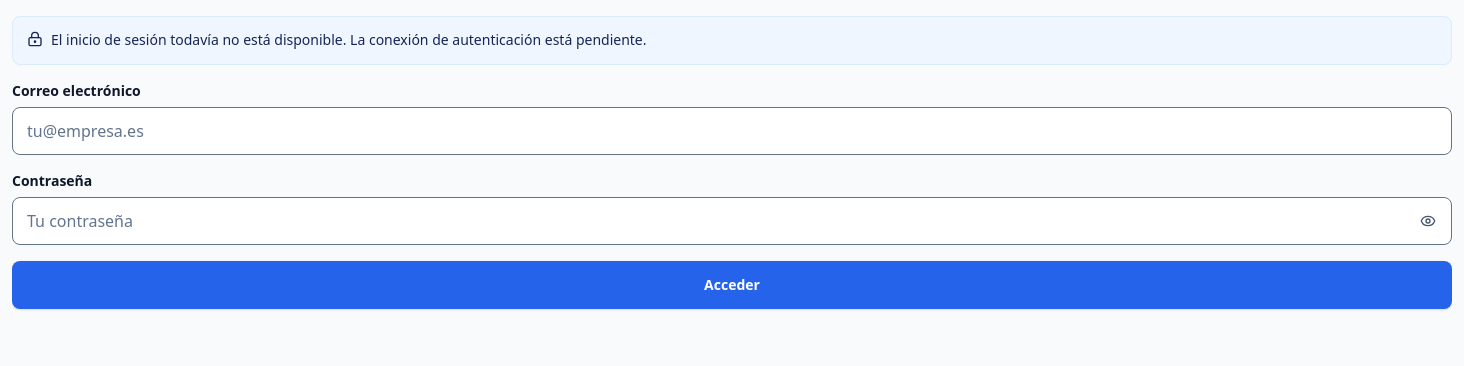
Test case: Formulario de acceso › mantiene acceso indisponible tras enviar campos válidos sin integración
Expected: the text "El inicio de sesión todavía no está disponible. La conexión de autenticación está pendiente." is shown, left=51, top=30, right=646, bottom=49
Type "prueba@example.invalid" into the field labelled "Correo electrónico" at (732,131), box left=12, top=107, right=1452, bottom=155
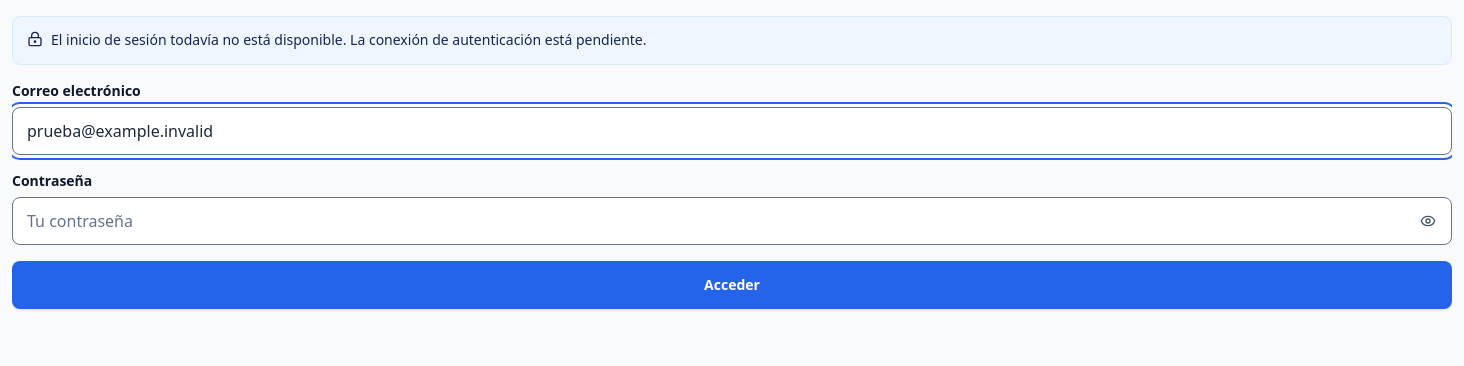
Type "entrada-de-prueba" into the password field labelled "Contraseña" at (732,221), box left=12, top=197, right=1452, bottom=245
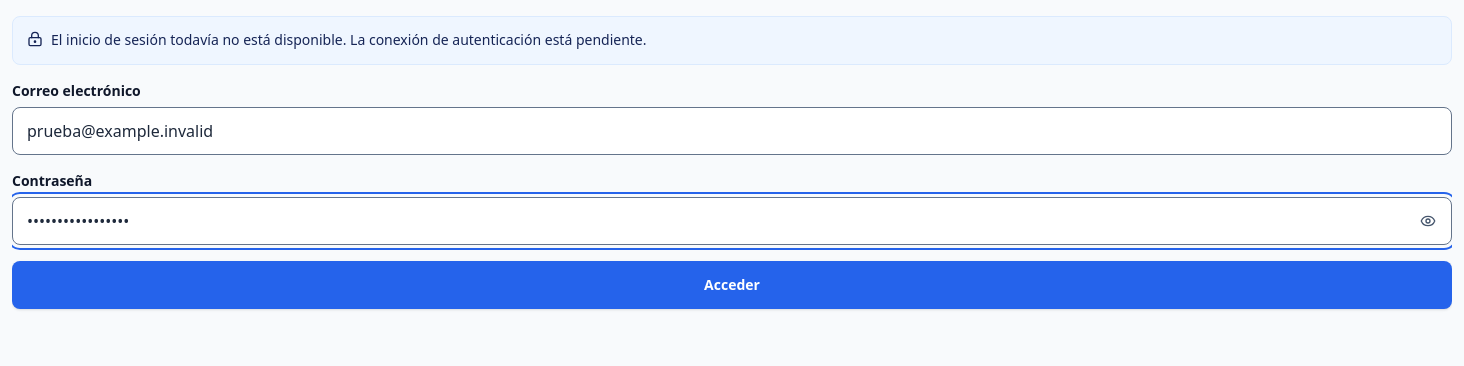
Click the button "Acceder" at (732,285), box left=12, top=261, right=1452, bottom=309
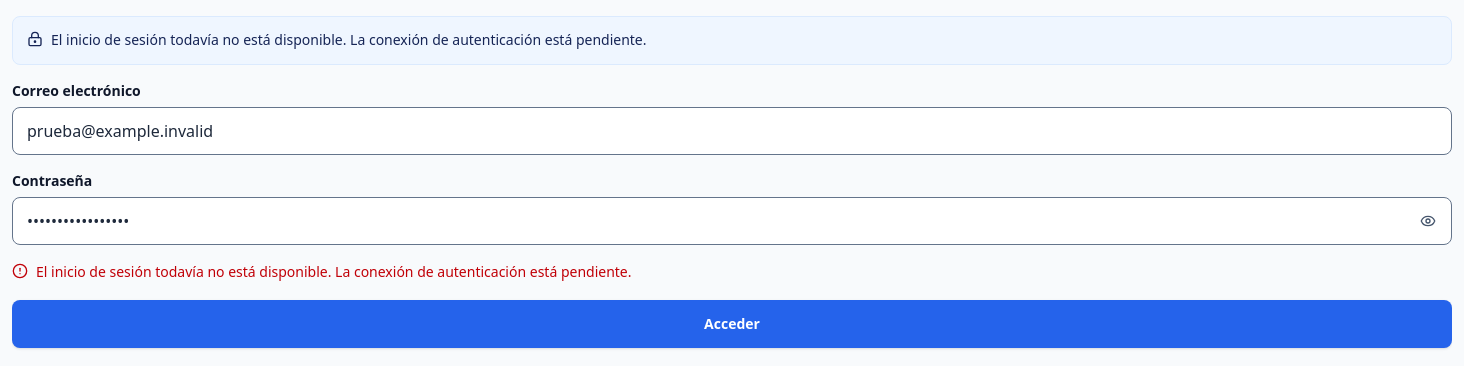
Expected: the message shows "El inicio de sesión todavía no está disponible. La conexión de autenticación está pendiente.", left=36, top=262, right=632, bottom=281
